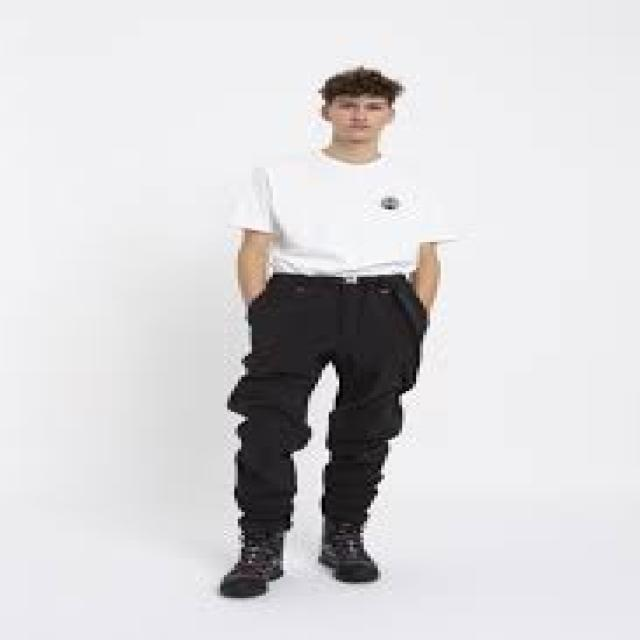pants: (230, 271, 432, 535)
